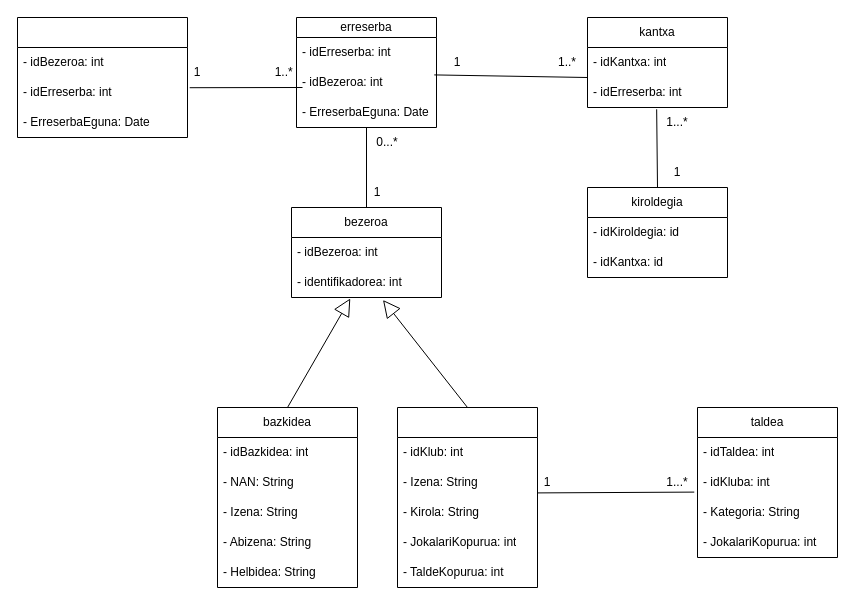
Some shapes in this 855 by 605 pixel diagram are drawn without their labels. The box of each missing label's shape, as (x1, y1, x2, y2) in pixels:
egutegia: (16, 16, 188, 138)
kluba: (396, 406, 538, 588)
